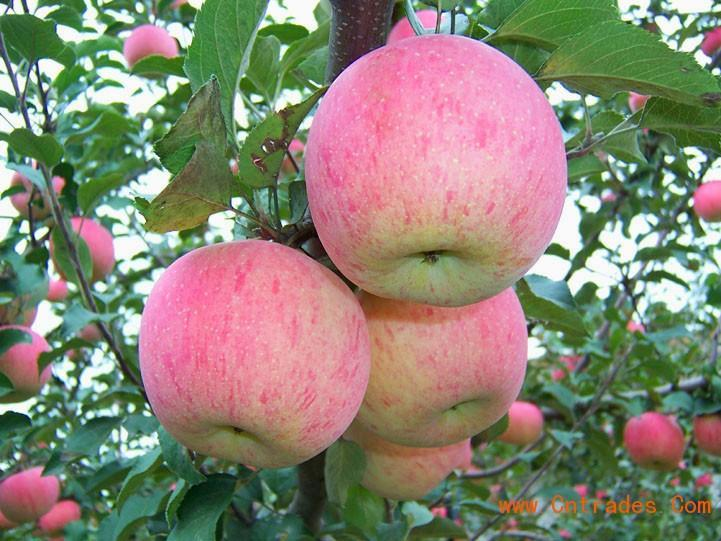apple: (301, 35, 567, 294), (134, 239, 420, 478), (350, 287, 531, 446), (59, 215, 115, 284), (1, 325, 54, 393), (124, 24, 176, 67), (691, 181, 720, 220)
